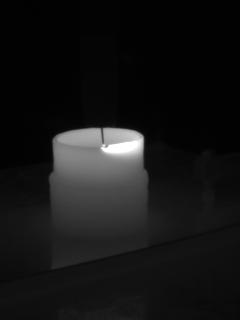tip_wire_left: (84, 121, 105, 148)
tip_wire_right: (102, 121, 116, 148)
